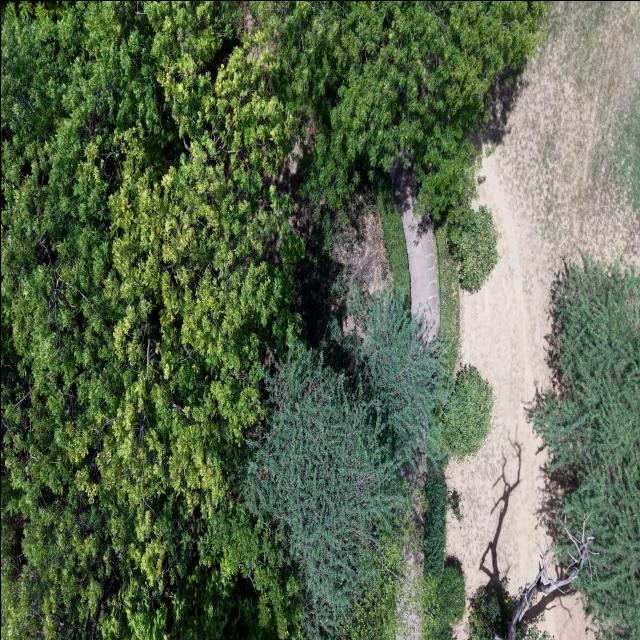DRY_AREA: (446, 1, 639, 597), (390, 162, 438, 342), (390, 161, 438, 341), (334, 193, 391, 294)
VEGETATION_TREE: (1, 1, 544, 639), (1, 1, 543, 639), (1, 3, 299, 638), (245, 291, 446, 638), (252, 1, 544, 223), (246, 345, 405, 638), (533, 255, 639, 639), (348, 292, 451, 470), (470, 513, 597, 639), (295, 182, 391, 348), (376, 429, 446, 638), (342, 497, 435, 639), (295, 212, 349, 348), (372, 173, 409, 307), (442, 366, 492, 460), (449, 207, 497, 292), (434, 224, 459, 376), (613, 95, 639, 211), (423, 566, 464, 639), (423, 461, 447, 579), (468, 586, 513, 639), (468, 587, 511, 639), (436, 566, 464, 625), (519, 625, 553, 639), (447, 489, 461, 521)
